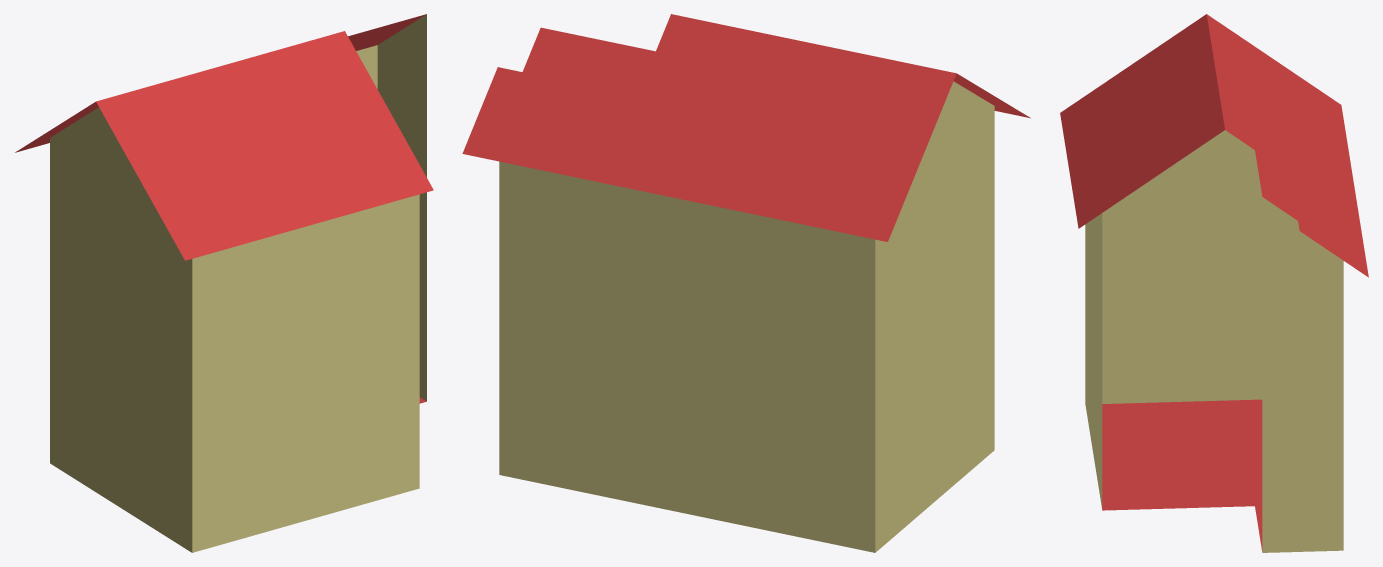
3 views of the same model, side by side, from view 1: azimuth 30°, elevation 25°; view 2: azimuth 150°, elevation 25°; view 3: azimuth 270°, elevation 25° (orthographic). The views are drawn at different scales.
Bounding box in the file's own units: 8.68 × 6.48 × 8.73.
